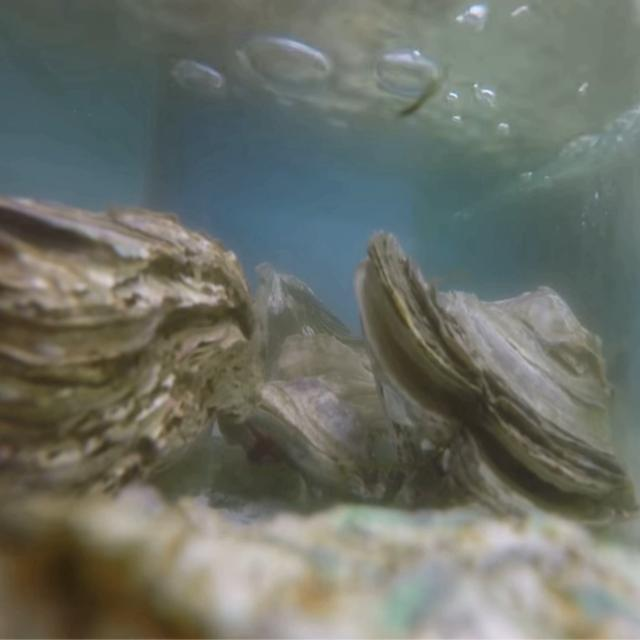Oyster-Closed: (0, 195, 258, 527), (257, 335, 419, 511)
Oyster-Indeterminate: (0, 486, 640, 640)
Oyster-Open: (352, 230, 640, 541)
